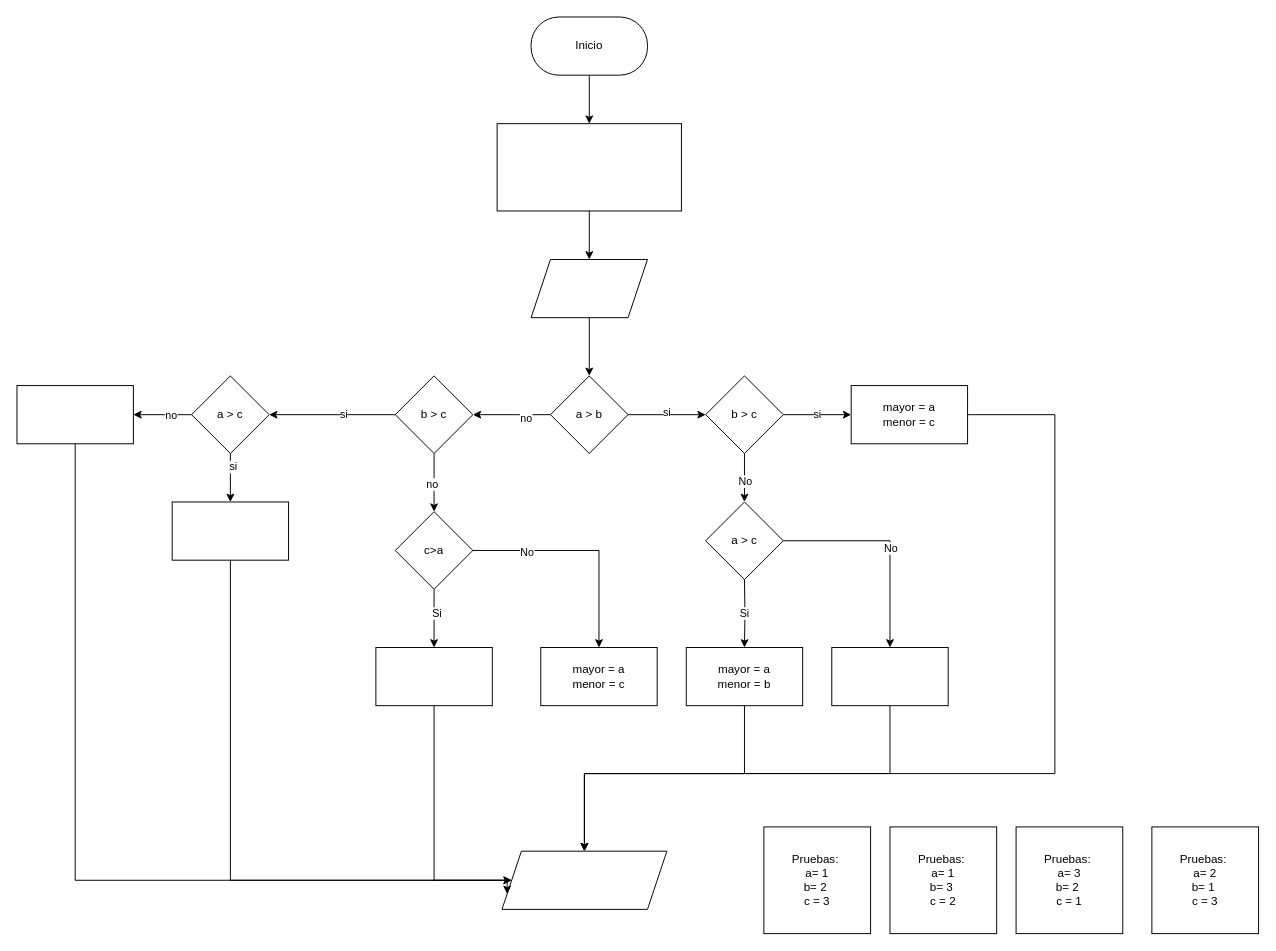
This 1276x951 diagram has some shape labels left out. Each missing label, with the centre of its shape:
"El mayor es" + mayor "El menor es: " + menor: pixel 584 879
Definir a = 0 b = 0 c = 0 menor = 0 mayor = 0: pixel 588 167
Leer a,b,c: pixel 588 288
mayor = c menor = a: pixel 433 676
mayor = c menor = b: pixel 889 676
menor = a mayor = b: pixel 74 414
menor = c mayor = b: pixel 230 530
